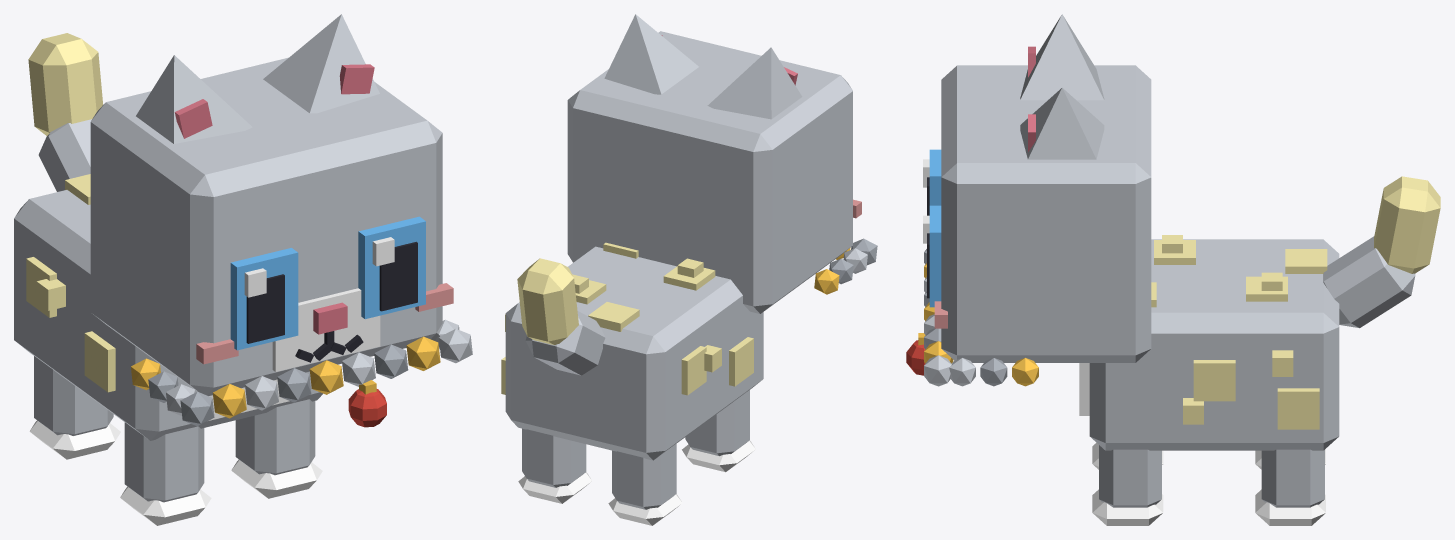
Rendered from CatCafe_Cat_Tinsel.glb.
3 views of the same model, side by side, from view 1: azimuth 30°, elevation 25°; view 2: azimuth 150°, elevation 25°; view 3: azimuth 270°, elevation 25° (orthographic). The views are drawn at different scales.
Parts seen in each view (by area): view 1: CatCafe_Cat_Tinsel_Head, CatCafe_Cat_Tinsel_Body, CatCafe_Cat_Tinsel_Prop, CatCafe_Cat_Tinsel_Tail, CatCafe_Cat_Tinsel_LegF2, CatCafe_Cat_Tinsel_LegF1, CatCafe_Cat_Tinsel_EarL, CatCafe_Cat_Tinsel_Eye2, CatCafe_Cat_Tinsel_Eye1, CatCafe_Cat_Tinsel_LegB2, CatCafe_Cat_Tinsel_EarR; view 2: CatCafe_Cat_Tinsel_Head, CatCafe_Cat_Tinsel_Body, CatCafe_Cat_Tinsel_Tail, CatCafe_Cat_Tinsel_LegB2, CatCafe_Cat_Tinsel_EarL, CatCafe_Cat_Tinsel_LegB1, CatCafe_Cat_Tinsel_EarR, CatCafe_Cat_Tinsel_LegF2, CatCafe_Cat_Tinsel_Prop; view 3: CatCafe_Cat_Tinsel_Head, CatCafe_Cat_Tinsel_Body, CatCafe_Cat_Tinsel_Tail, CatCafe_Cat_Tinsel_LegB1, CatCafe_Cat_Tinsel_LegF1, CatCafe_Cat_Tinsel_EarR, CatCafe_Cat_Tinsel_EarL, CatCafe_Cat_Tinsel_Prop, CatCafe_Cat_Tinsel_Eye1, CatCafe_Cat_Tinsel_Eye2.
Boxes of the visible parts, x1=… form: CatCafe_Cat_Tinsel_Head: x1=90, y1=57, x2=453, y2=395; CatCafe_Cat_Tinsel_Body: x1=14, y1=174, x2=322, y2=440; CatCafe_Cat_Tinsel_Prop: x1=131, y1=319, x2=472, y2=427; CatCafe_Cat_Tinsel_Tail: x1=28, y1=33, x2=103, y2=191; CatCafe_Cat_Tinsel_LegF2: x1=120, y1=422, x2=211, y2=525; CatCafe_Cat_Tinsel_LegF1: x1=231, y1=399, x2=322, y2=498; CatCafe_Cat_Tinsel_EarL: x1=263, y1=14, x2=379, y2=113; CatCafe_Cat_Tinsel_Eye2: x1=230, y1=248, x2=298, y2=350; CatCafe_Cat_Tinsel_Eye1: x1=358, y1=216, x2=425, y2=319; CatCafe_Cat_Tinsel_LegB2: x1=29, y1=356, x2=120, y2=459; CatCafe_Cat_Tinsel_EarR: x1=136, y1=55, x2=252, y2=143; CatCafe_Cat_Tinsel_Head: x1=567, y1=31, x2=861, y2=313; CatCafe_Cat_Tinsel_Body: x1=501, y1=242, x2=763, y2=460; CatCafe_Cat_Tinsel_Tail: x1=517, y1=258, x2=605, y2=375; CatCafe_Cat_Tinsel_LegB2: x1=608, y1=443, x2=682, y2=525; CatCafe_Cat_Tinsel_EarL: x1=604, y1=14, x2=698, y2=94; CatCafe_Cat_Tinsel_LegB1: x1=518, y1=428, x2=591, y2=503; CatCafe_Cat_Tinsel_EarR: x1=707, y1=47, x2=802, y2=119; CatCafe_Cat_Tinsel_LegF2: x1=682, y1=390, x2=755, y2=472; CatCafe_Cat_Tinsel_Prop: x1=814, y1=238, x2=877, y2=294; CatCafe_Cat_Tinsel_Head: x1=934, y1=65, x2=1151, y2=362; CatCafe_Cat_Tinsel_Body: x1=1079, y1=235, x2=1339, y2=450; CatCafe_Cat_Tinsel_Tail: x1=1323, y1=176, x2=1440, y2=328; CatCafe_Cat_Tinsel_LegB1: x1=1255, y1=449, x2=1325, y2=525; CatCafe_Cat_Tinsel_LegF1: x1=1092, y1=445, x2=1163, y2=525; CatCafe_Cat_Tinsel_EarR: x1=1020, y1=14, x2=1104, y2=100; CatCafe_Cat_Tinsel_EarL: x1=1020, y1=87, x2=1104, y2=159; CatCafe_Cat_Tinsel_Prop: x1=906, y1=249, x2=1038, y2=386; CatCafe_Cat_Tinsel_Eye1: x1=923, y1=205, x2=941, y2=307; CatCafe_Cat_Tinsel_Eye2: x1=923, y1=149, x2=941, y2=215.
Size of the model in its own units: 1.15 by 1.86 by 2.03.
Materials: 1 (1 with a texture image).
